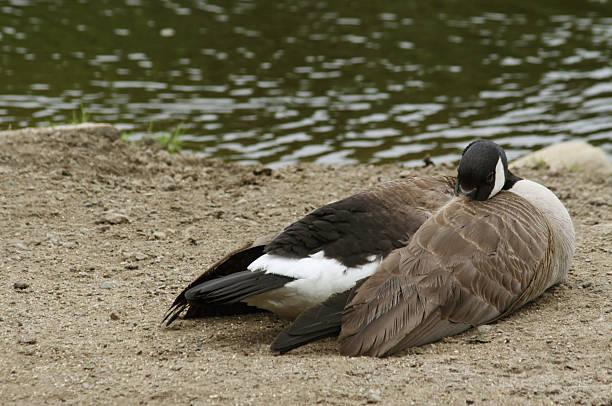Canadian-Goose: (195, 143, 581, 353)
